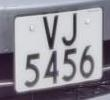4: (42, 48, 62, 89)
5: (22, 49, 44, 92), (59, 46, 80, 87)
6: (20, 48, 44, 92), (78, 42, 97, 83)
J: (59, 11, 81, 51)
V: (39, 13, 62, 52)
